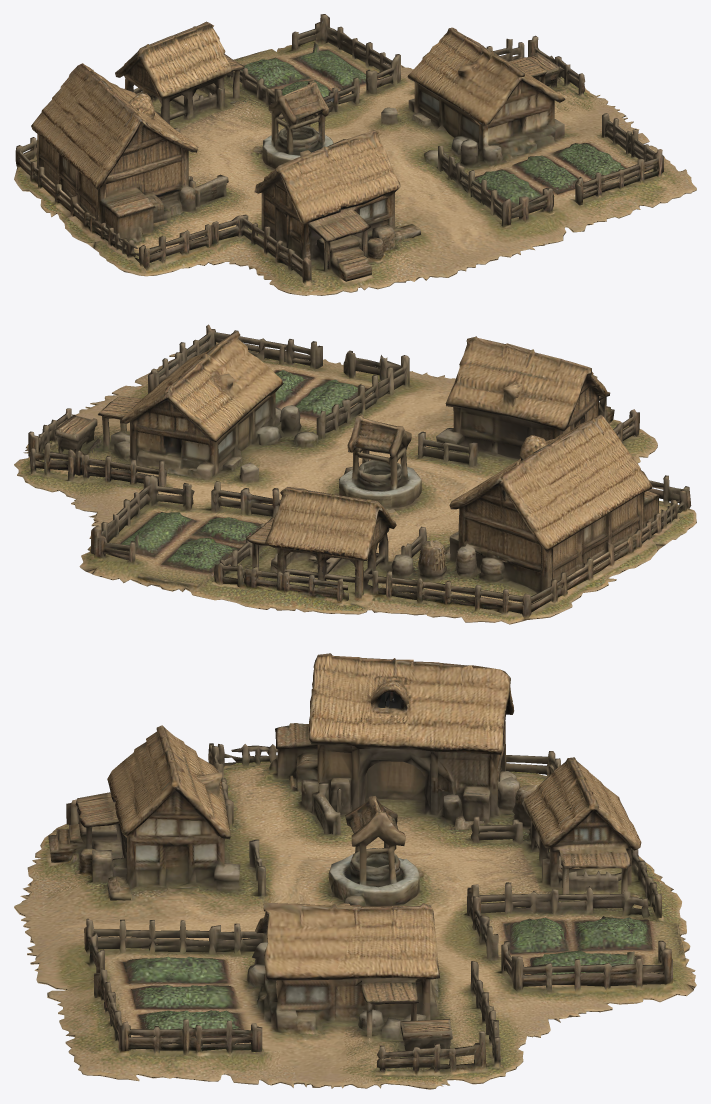
File: human-1.glb
3 views of the same model, one above another, from view 1: azimuth 30°, elevation 25°; view 2: azimuth 150°, elevation 25°; view 3: azimuth 270°, elevation 25° (orthographic). The views are drawn at different scales.
Visible parts, largest first — view 1: tripo_node_98b9bd91-2388-4fd4-8741-7ed55cb3e780; view 2: tripo_node_98b9bd91-2388-4fd4-8741-7ed55cb3e780; view 3: tripo_node_98b9bd91-2388-4fd4-8741-7ed55cb3e780.
Part boxes in pixels (x1,y1,x2,y2): tripo_node_98b9bd91-2388-4fd4-8741-7ed55cb3e780: [14, 14, 696, 295]; tripo_node_98b9bd91-2388-4fd4-8741-7ed55cb3e780: [14, 324, 696, 624]; tripo_node_98b9bd91-2388-4fd4-8741-7ed55cb3e780: [14, 653, 696, 1089].
Bounding box in the file's own units: 1 × 0.2063 × 0.8827.
1 material, 1 textured.
